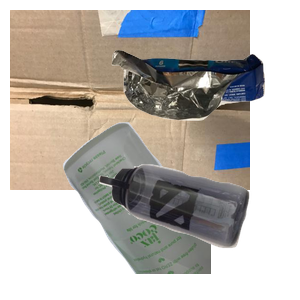cardboard: (10, 10, 250, 190)
glass: (60, 120, 300, 300)
plastic: (97, 162, 300, 300)
trash: (109, 47, 300, 160)
